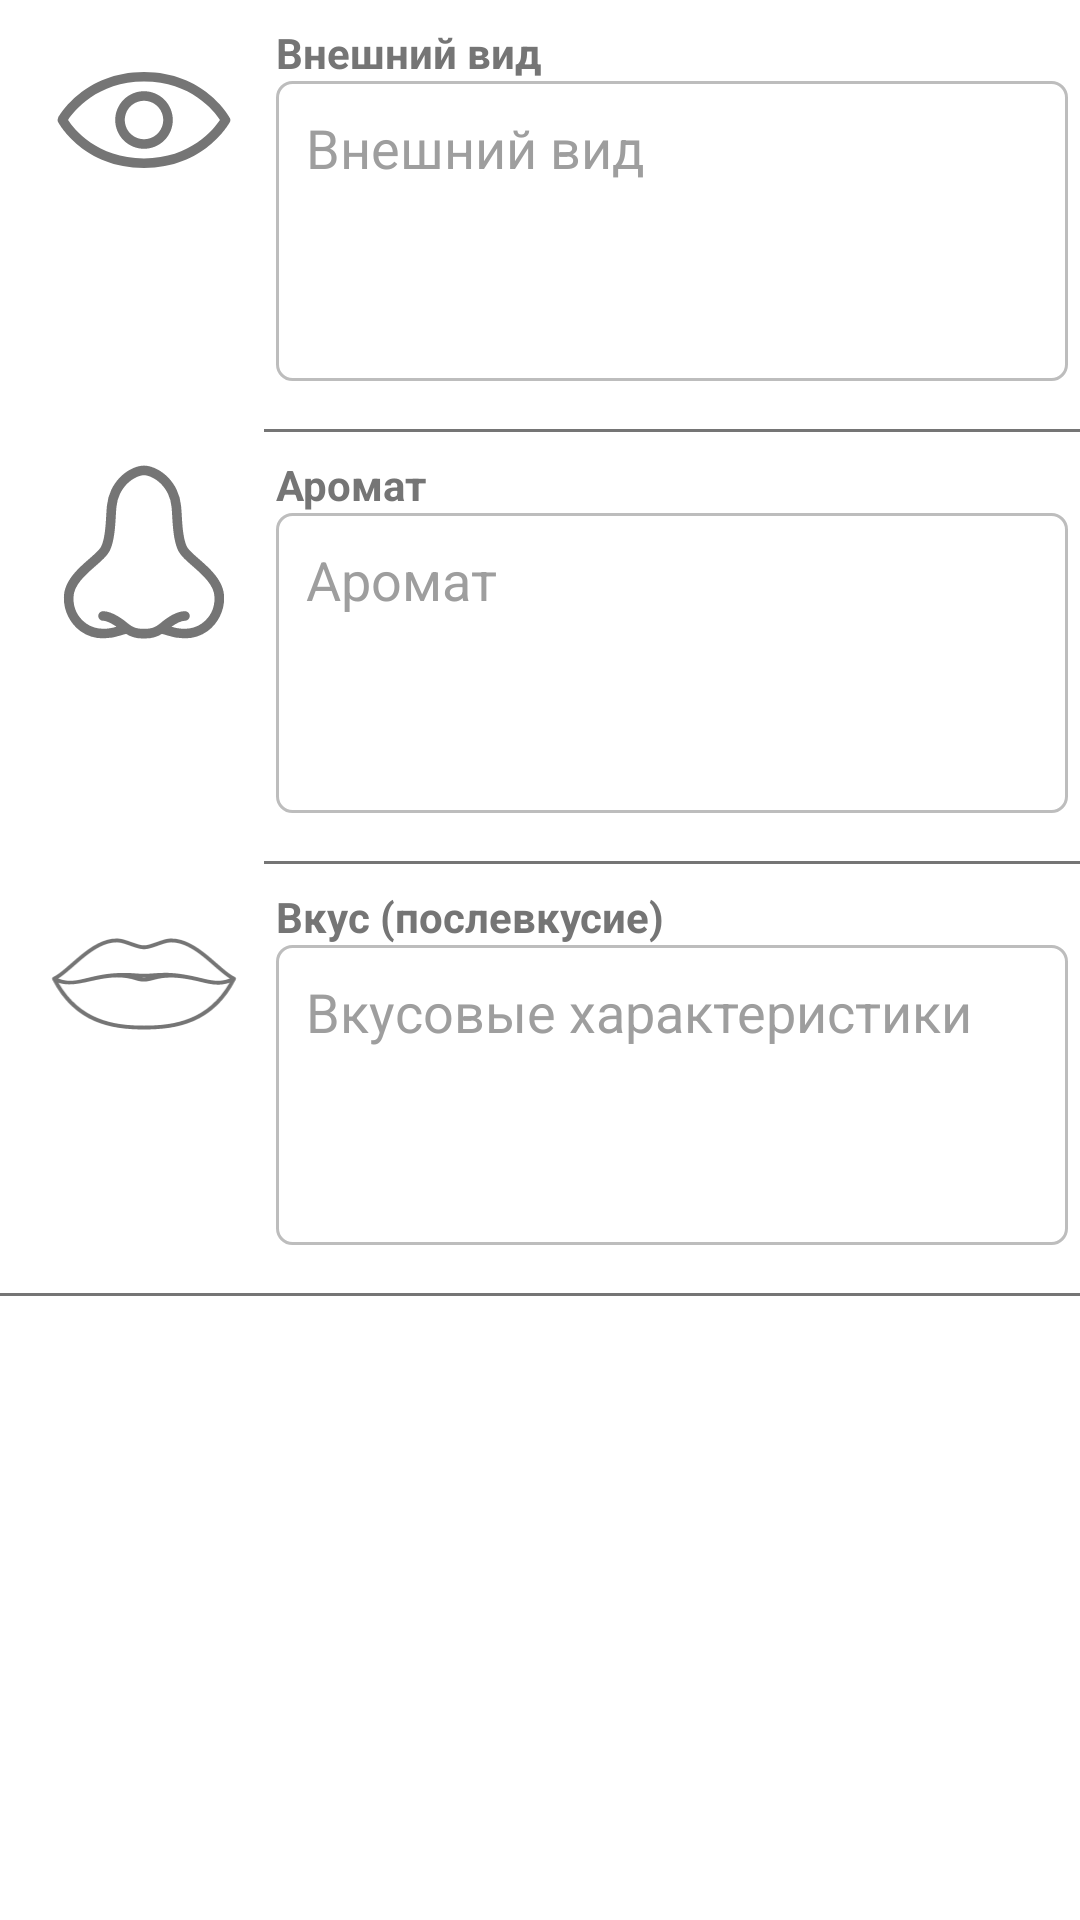

Screen size 1080x1920. Icon name, then its center in pixels as point (x, y):
eye: point (144, 120)
mouth: point (144, 984)
nose: point (144, 552)
